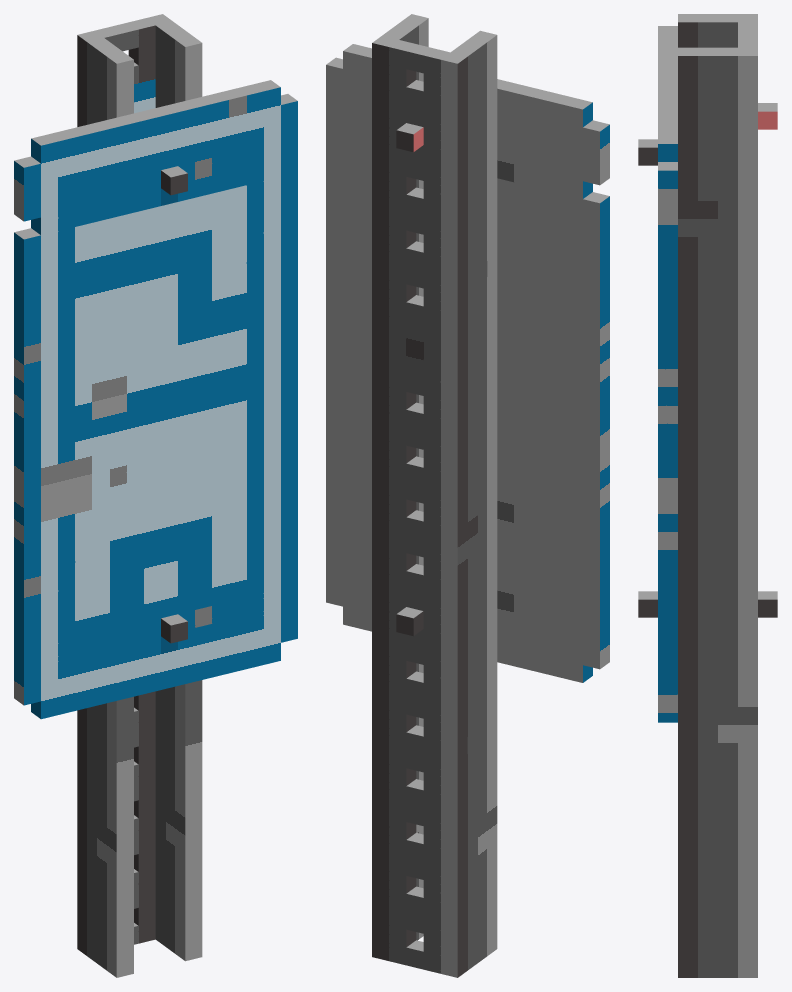
The model's file is zu_signao.fezao.glb.
The picture shows the model from 3 angles, left to right: view 1: azimuth 30°, elevation 25°; view 2: azimuth 150°, elevation 25°; view 3: azimuth 270°, elevation 25°; orthographic projection.
Visible parts, largest first — view 1: ZU_SIGNAO; view 2: ZU_SIGNAO; view 3: ZU_SIGNAO.
Boxes of the visible parts, x1,y1,x2,y2 form: ZU_SIGNAO: (14, 14, 297, 977); ZU_SIGNAO: (326, 14, 609, 977); ZU_SIGNAO: (638, 14, 777, 977).
Size of the model in its own units: 1 by 3.19 by 0.4375.
Materials: 1 (1 with a texture image).
